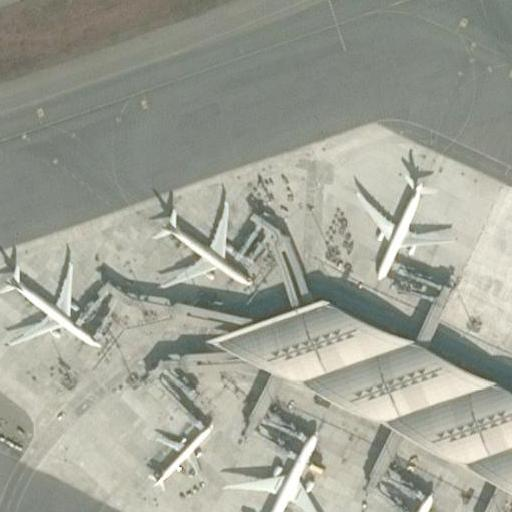Aircraft: (351, 153, 452, 285), (148, 189, 257, 296), (0, 242, 100, 353), (221, 425, 332, 512), (127, 407, 220, 497), (348, 482, 449, 512)
